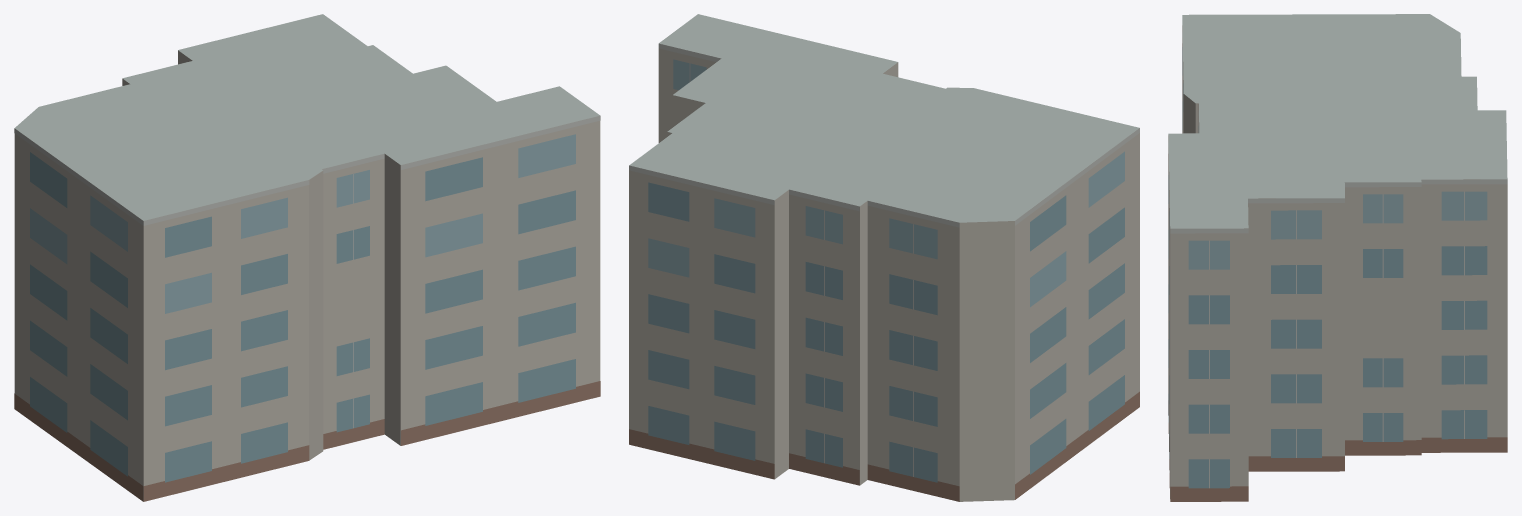
File: survey-upis-32772251.glb
The picture shows the model from 3 angles, left to right: view 1: azimuth 30°, elevation 25°; view 2: azimuth 150°, elevation 25°; view 3: azimuth 270°, elevation 25°; orthographic projection. The views are drawn at different scales.
Visible parts, largest first — view 1: survey-upis-32772251.tmp; view 2: survey-upis-32772251.tmp; view 3: survey-upis-32772251.tmp.
Part boxes in pixels (x1,y1,x2,y2): survey-upis-32772251.tmp: (14, 14, 600, 501); survey-upis-32772251.tmp: (629, 14, 1139, 501); survey-upis-32772251.tmp: (1168, 14, 1507, 501).
Bounding box in the file's own units: 23.1 × 13.7 × 15.42.
